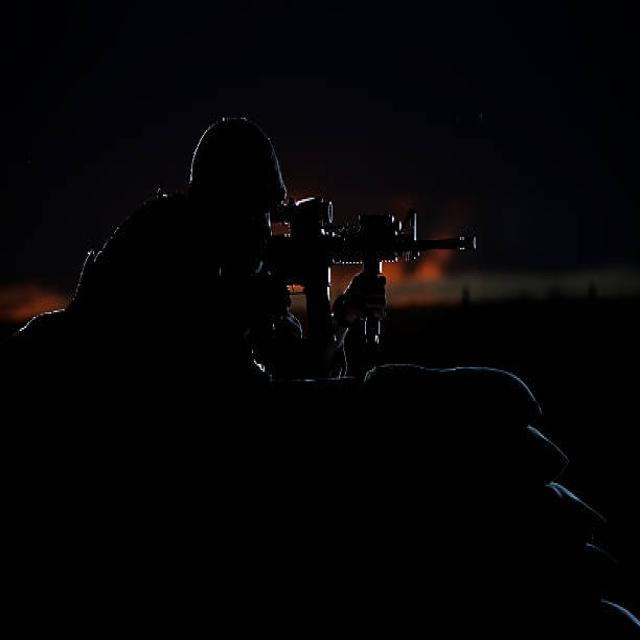soldier: (43, 116, 497, 418)
